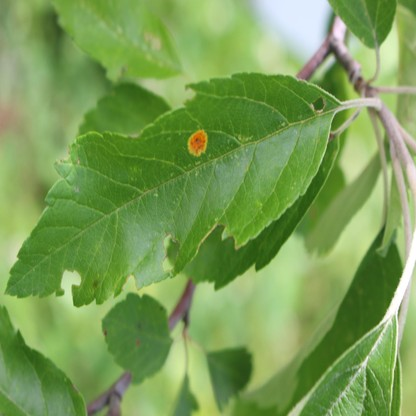rust: (188, 129, 207, 156)
